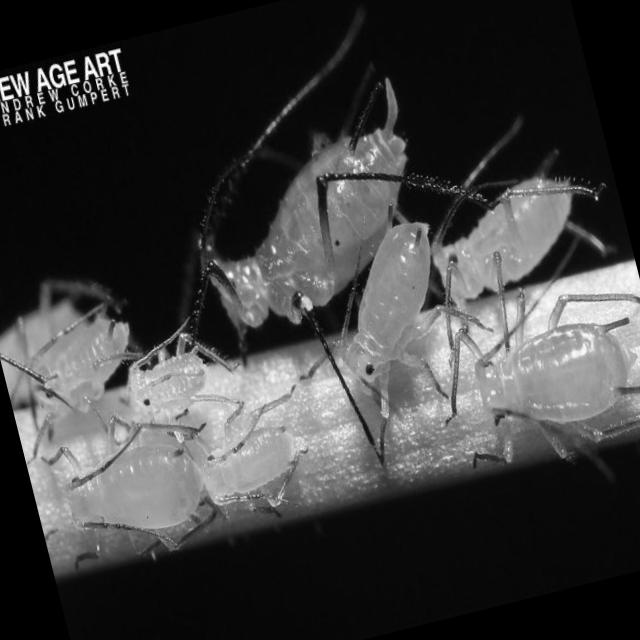Aphids: (164, 92, 444, 368), (403, 106, 640, 330), (302, 204, 488, 451), (26, 390, 232, 594), (439, 286, 640, 463), (0, 289, 160, 445), (180, 386, 322, 538), (107, 317, 246, 442)
